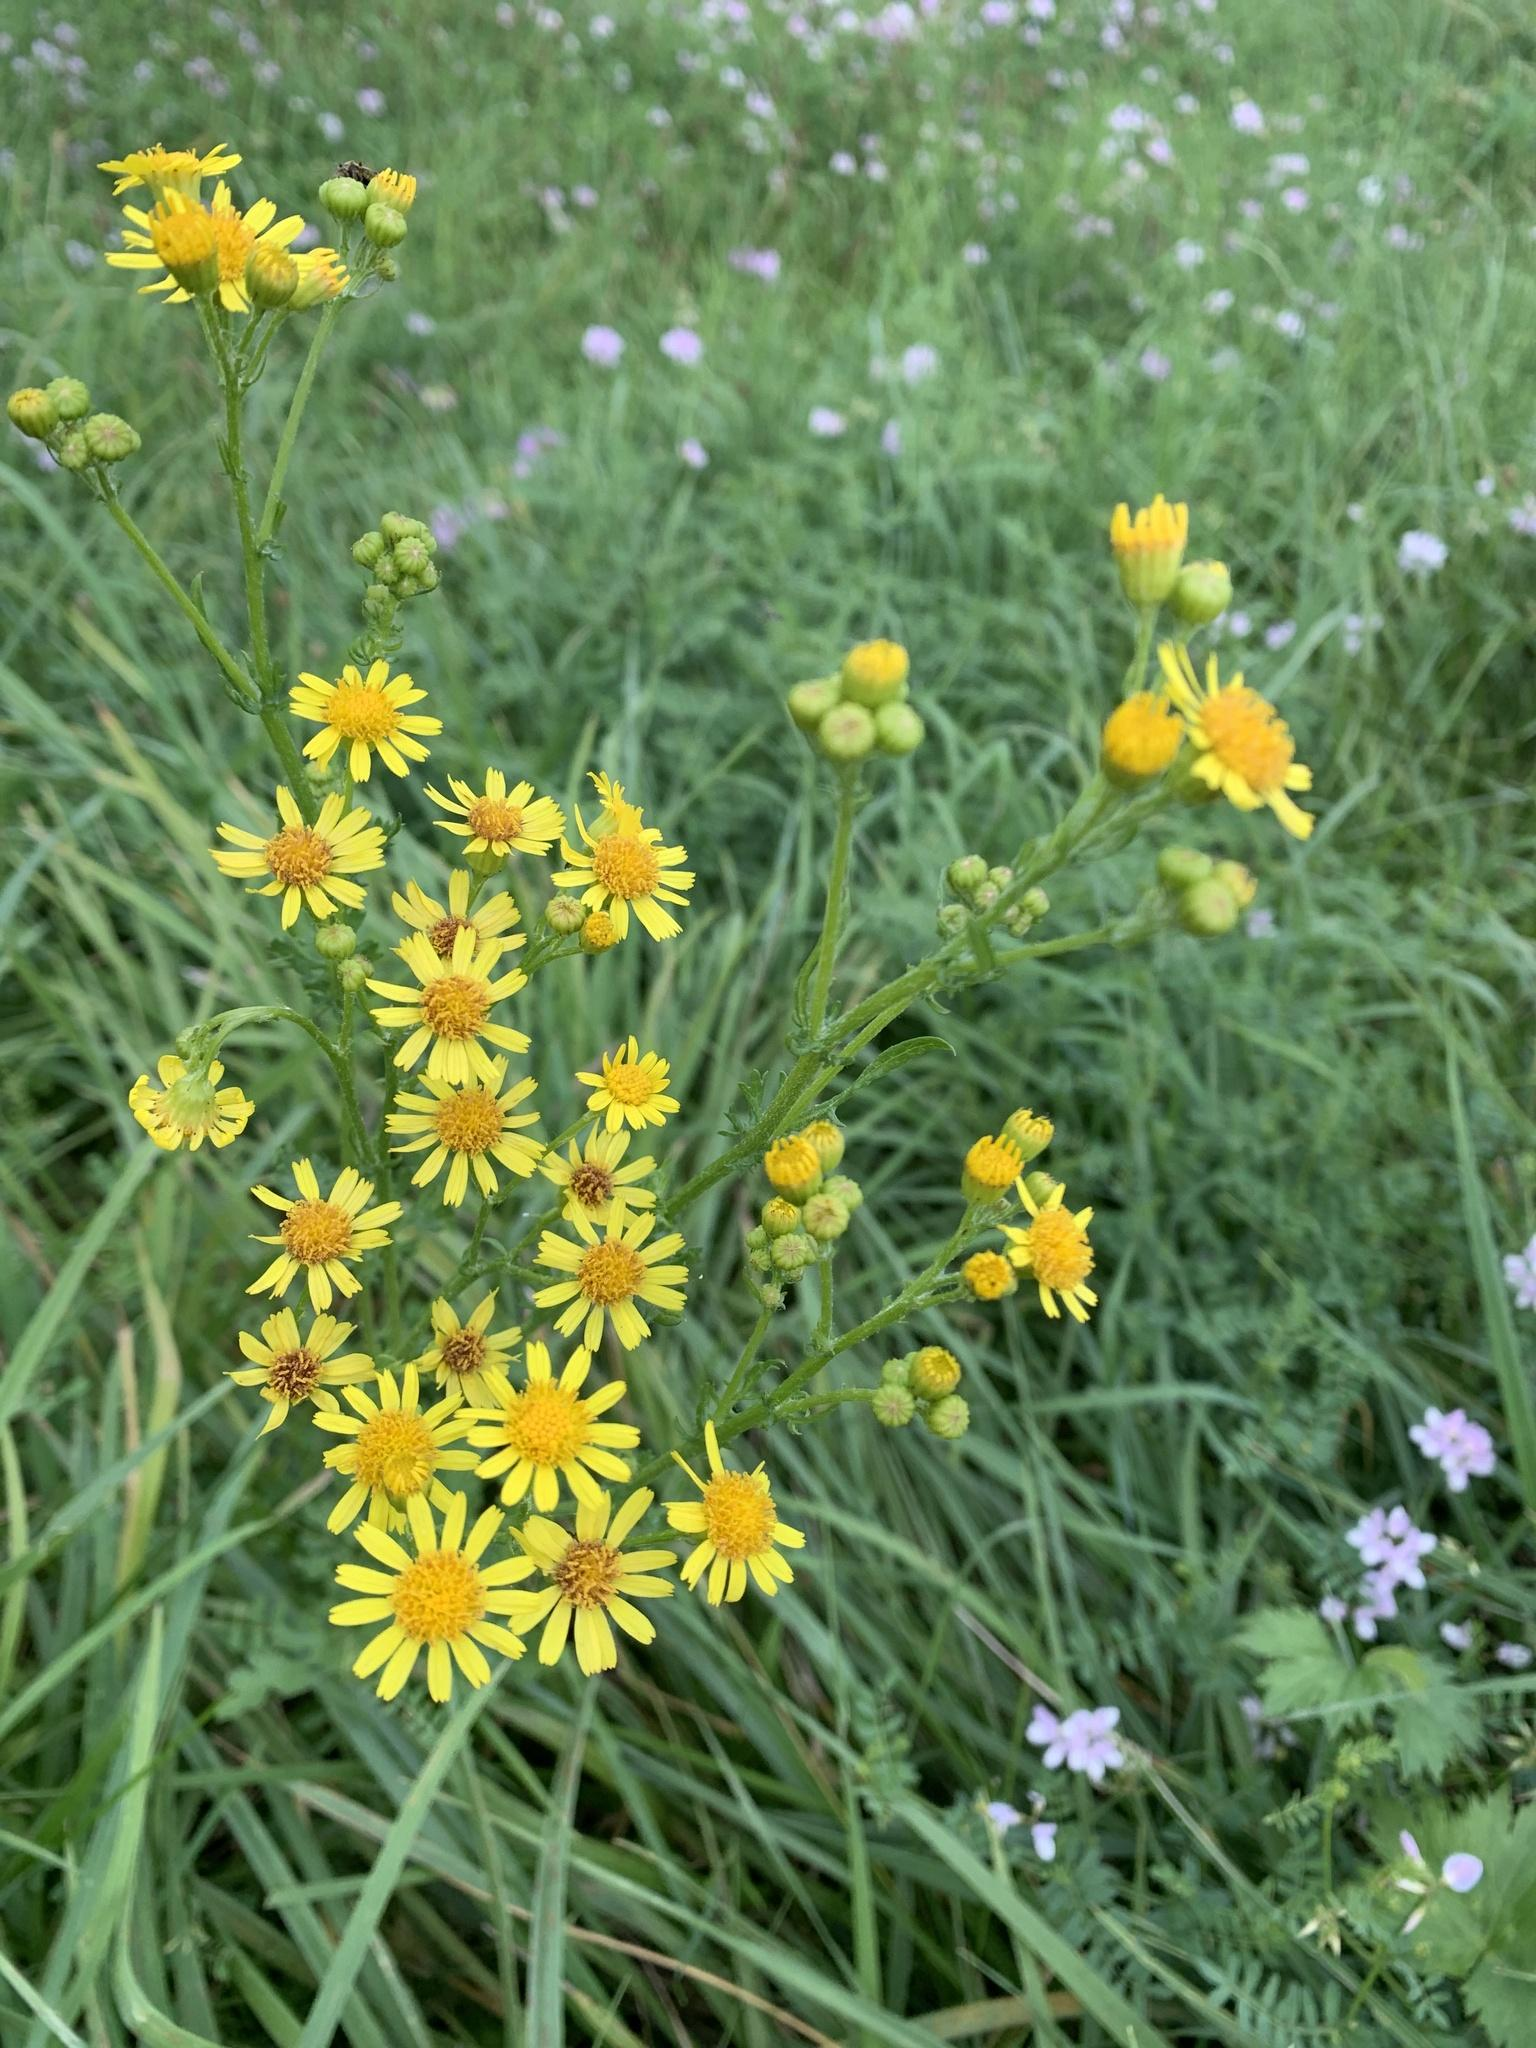Jacobaea vulgaris: (0, 97, 1394, 1727)
